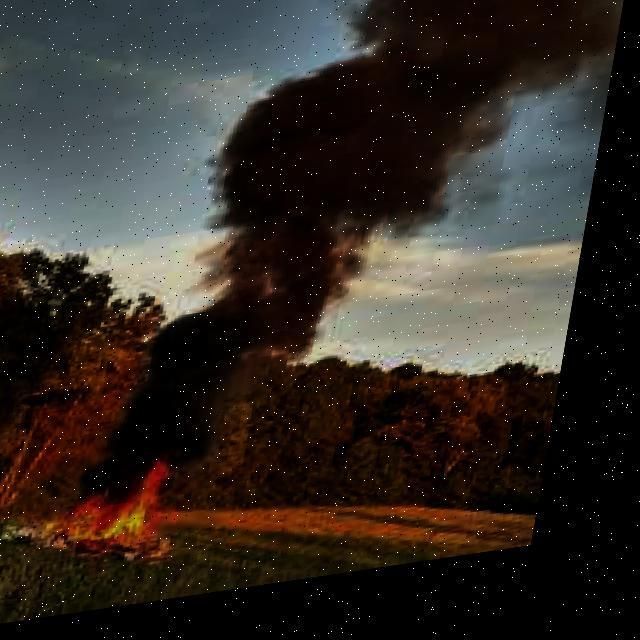Fire: (47, 440, 219, 575)
